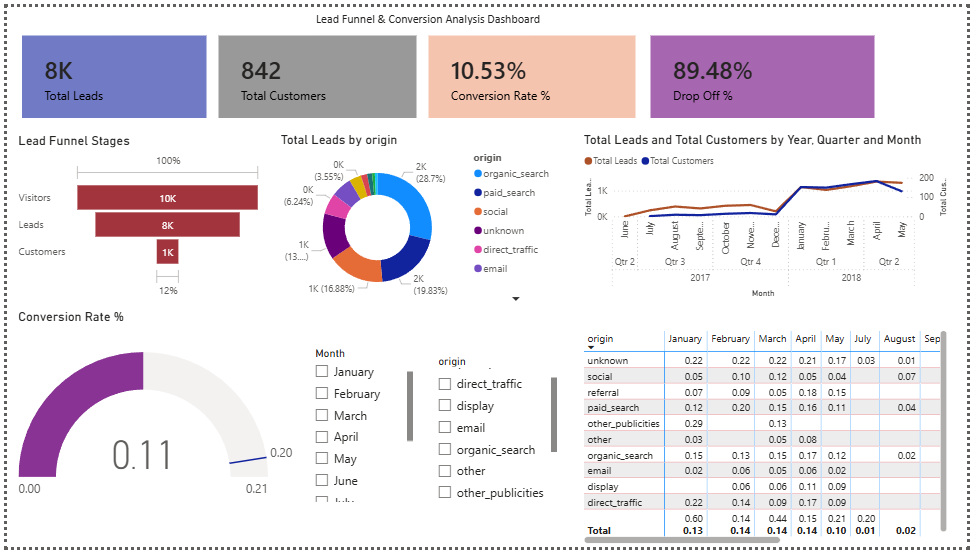

What the dashboard file says about the page in this screenshot:
{"tool":"powerbi","page":{"name":"Page 1","canvas":[1280,720],"ordinal":0},"visuals":[{"type":"textbox","box":[378.6,0,368.6,35.7],"z":0},{"type":"cardVisual","fields":{"Data":["olist_marketing_qualified_leads.Total Leads"]},"box":[20,37.1,245.7,110],"z":1000},{"type":"cardVisual","fields":{"Data":["olist_marketing_qualified_leads.Total Customers"]},"box":[281.4,37.1,264.3,110],"z":2000},{"type":"cardVisual","fields":{"Data":["olist_marketing_qualified_leads.Conversion Rate %"]},"box":[562.9,37.1,275.7,110],"z":3000},{"type":"cardVisual","fields":{"Data":["olist_marketing_qualified_leads.Drop Off %"]},"box":[857.1,37.1,298.6,110],"z":4000},{"type":"funnel","title":"Lead Funnel Stages","fields":{"Category":["Table.Column1"],"Y":["Sum(Table.Column2)"]},"box":[10,168,334,224],"z":5000},{"type":"donutChart","fields":{"Y":["olist_marketing_qualified_leads.Total Leads"],"Category":["olist_marketing_qualified_leads.origin"]},"box":[360,166,378,236],"z":6000},{"type":"lineChart","fields":{"Category":["olist_marketing_qualified_leads.first_contact_date.Variation.Date Hierarchy.Year","olist_marketing_qualified_leads.first_contact_date.Variation.Date Hierarchy.Quarter","olist_marketing_qualified_leads.first_contact_date.Variation.Date Hierarchy.Month","olist_marketing_qualified_leads.first_contact_date.Variation.Date Hierarchy.Day"],"Y":["olist_marketing_qualified_leads.Total Leads"],"Y2":["olist_marketing_qualified_leads.Total Customers"]},"box":[764,166,494,226],"z":7000},{"type":"gauge","fields":{"Y":["olist_marketing_qualified_leads.Conversion Rate %"]},"box":[10,402,380,294],"z":8000},{"type":"slicer","fields":{"Values":["olist_closed_deals_dataset.won_date.Variation.Date Hierarchy.Month"]},"box":[398,448,148,216],"z":9000},{"type":"slicer","fields":{"Values":["olist_marketing_qualified_leads.origin"]},"box":[562,458,176,206],"z":10000},{"type":"pivotTable","fields":{"Rows":["olist_marketing_qualified_leads.origin"],"Columns":["olist_marketing_qualified_leads.first_contact_date.Variation.Date Hierarchy.Month"],"Values":["olist_marketing_qualified_leads.Conversion Rate %"]},"box":[764,426,494,294],"z":11000}]}

Visuals, with their boxes in screenshot pixels (x1, y1, x2, y2), scaled from the page's 1280x720 canvas onto the 977x555 screenshot:
textbox: 289, 0, 570, 28
cardVisual - olist_marketing_qualified_leads.Total Leads: 15, 29, 203, 113
cardVisual - olist_marketing_qualified_leads.Total Customers: 215, 29, 417, 113
cardVisual - olist_marketing_qualified_leads.Conversion Rate %: 430, 29, 640, 113
cardVisual - olist_marketing_qualified_leads.Drop Off %: 654, 29, 882, 113
"Lead Funnel Stages" funnel: 8, 130, 263, 302
donutChart - olist_marketing_qualified_leads.Total Leads x olist_marketing_qualified_leads.origin: 275, 128, 563, 310
lineChart - olist_marketing_qualified_leads.first_contact_date.Variation.Date Hierarchy.Year x olist_marketing_qualified_leads.first_contact_date.Variation.Date Hierarchy.Quarter: 583, 128, 960, 302
gauge - olist_marketing_qualified_leads.Conversion Rate %: 8, 310, 298, 536
slicer - olist_closed_deals_dataset.won_date.Variation.Date Hierarchy.Month: 304, 345, 417, 512
slicer - olist_marketing_qualified_leads.origin: 429, 353, 563, 512
pivotTable - olist_marketing_qualified_leads.origin x olist_marketing_qualified_leads.first_contact_date.Variation.Date Hierarchy.Month: 583, 328, 960, 554
